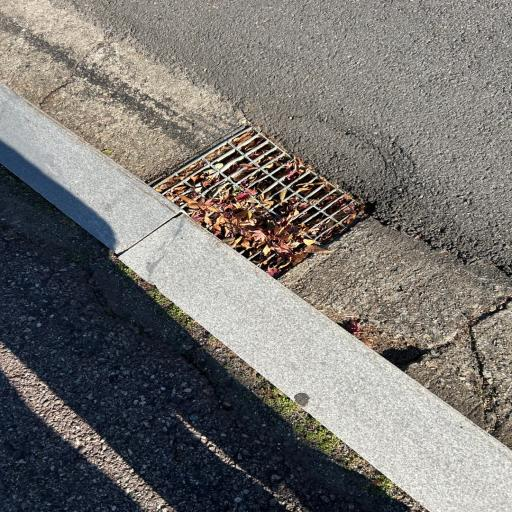debris: (325, 190, 356, 224), (283, 152, 316, 177), (259, 131, 287, 151), (317, 175, 335, 191), (267, 154, 280, 168), (298, 183, 310, 195), (355, 198, 364, 211), (267, 267, 279, 276), (278, 190, 286, 203), (250, 152, 262, 158), (247, 177, 256, 182)
drain: (153, 127, 374, 278)
